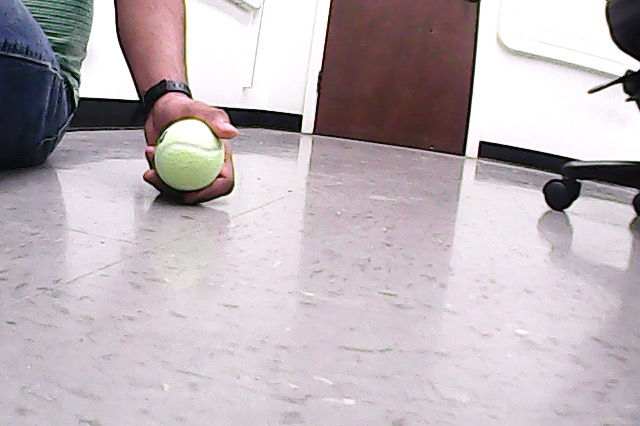ball: (151, 117, 230, 194)
